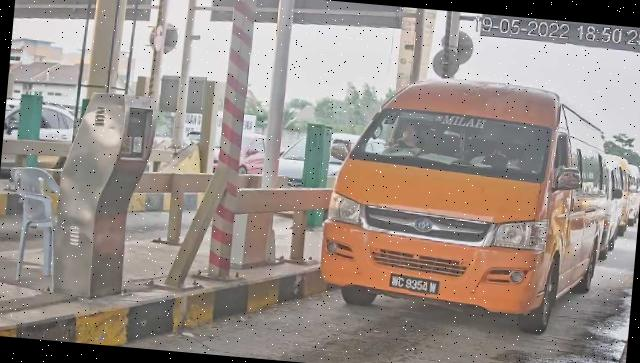License_Plate: (388, 274, 442, 300)
van: (316, 71, 615, 340)
